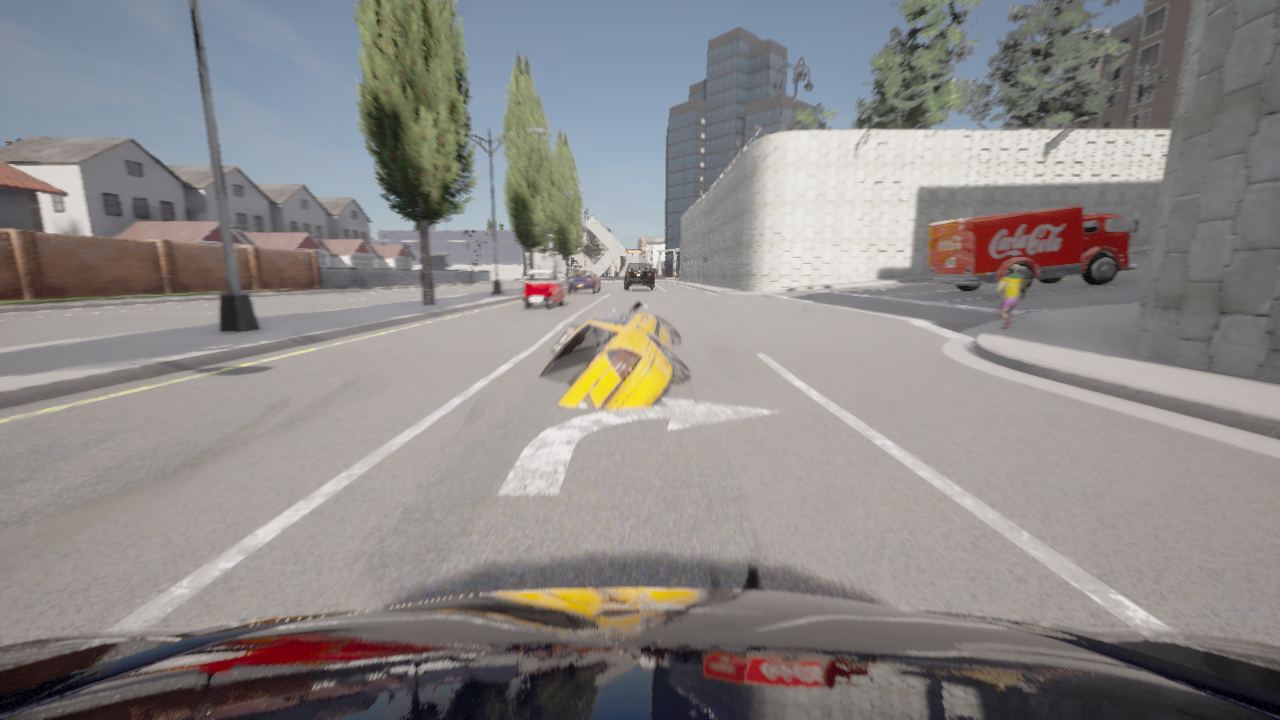cyclist: (0, 588, 1279, 719), (927, 205, 1138, 292), (540, 302, 690, 409), (523, 269, 564, 308), (623, 262, 655, 290), (567, 269, 599, 293)
pedestrian: (996, 264, 1026, 329)
